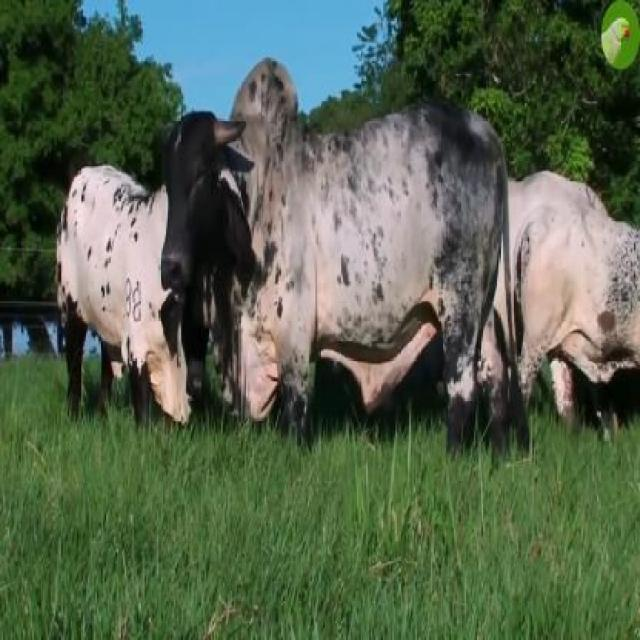Cow: (155, 58, 520, 474)
